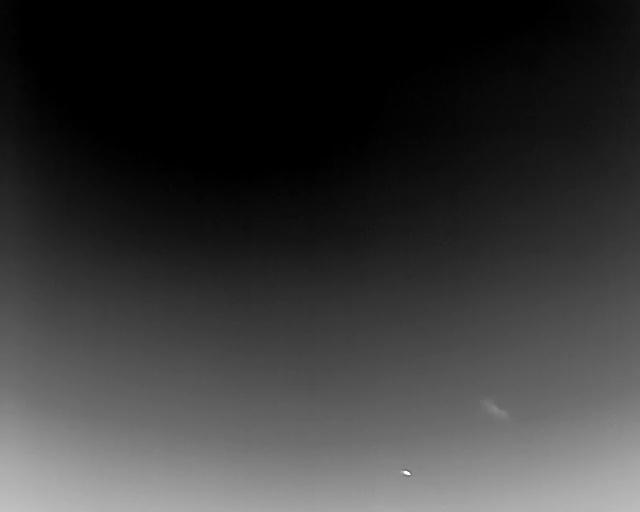fpv-drone: (400, 469, 412, 476)
